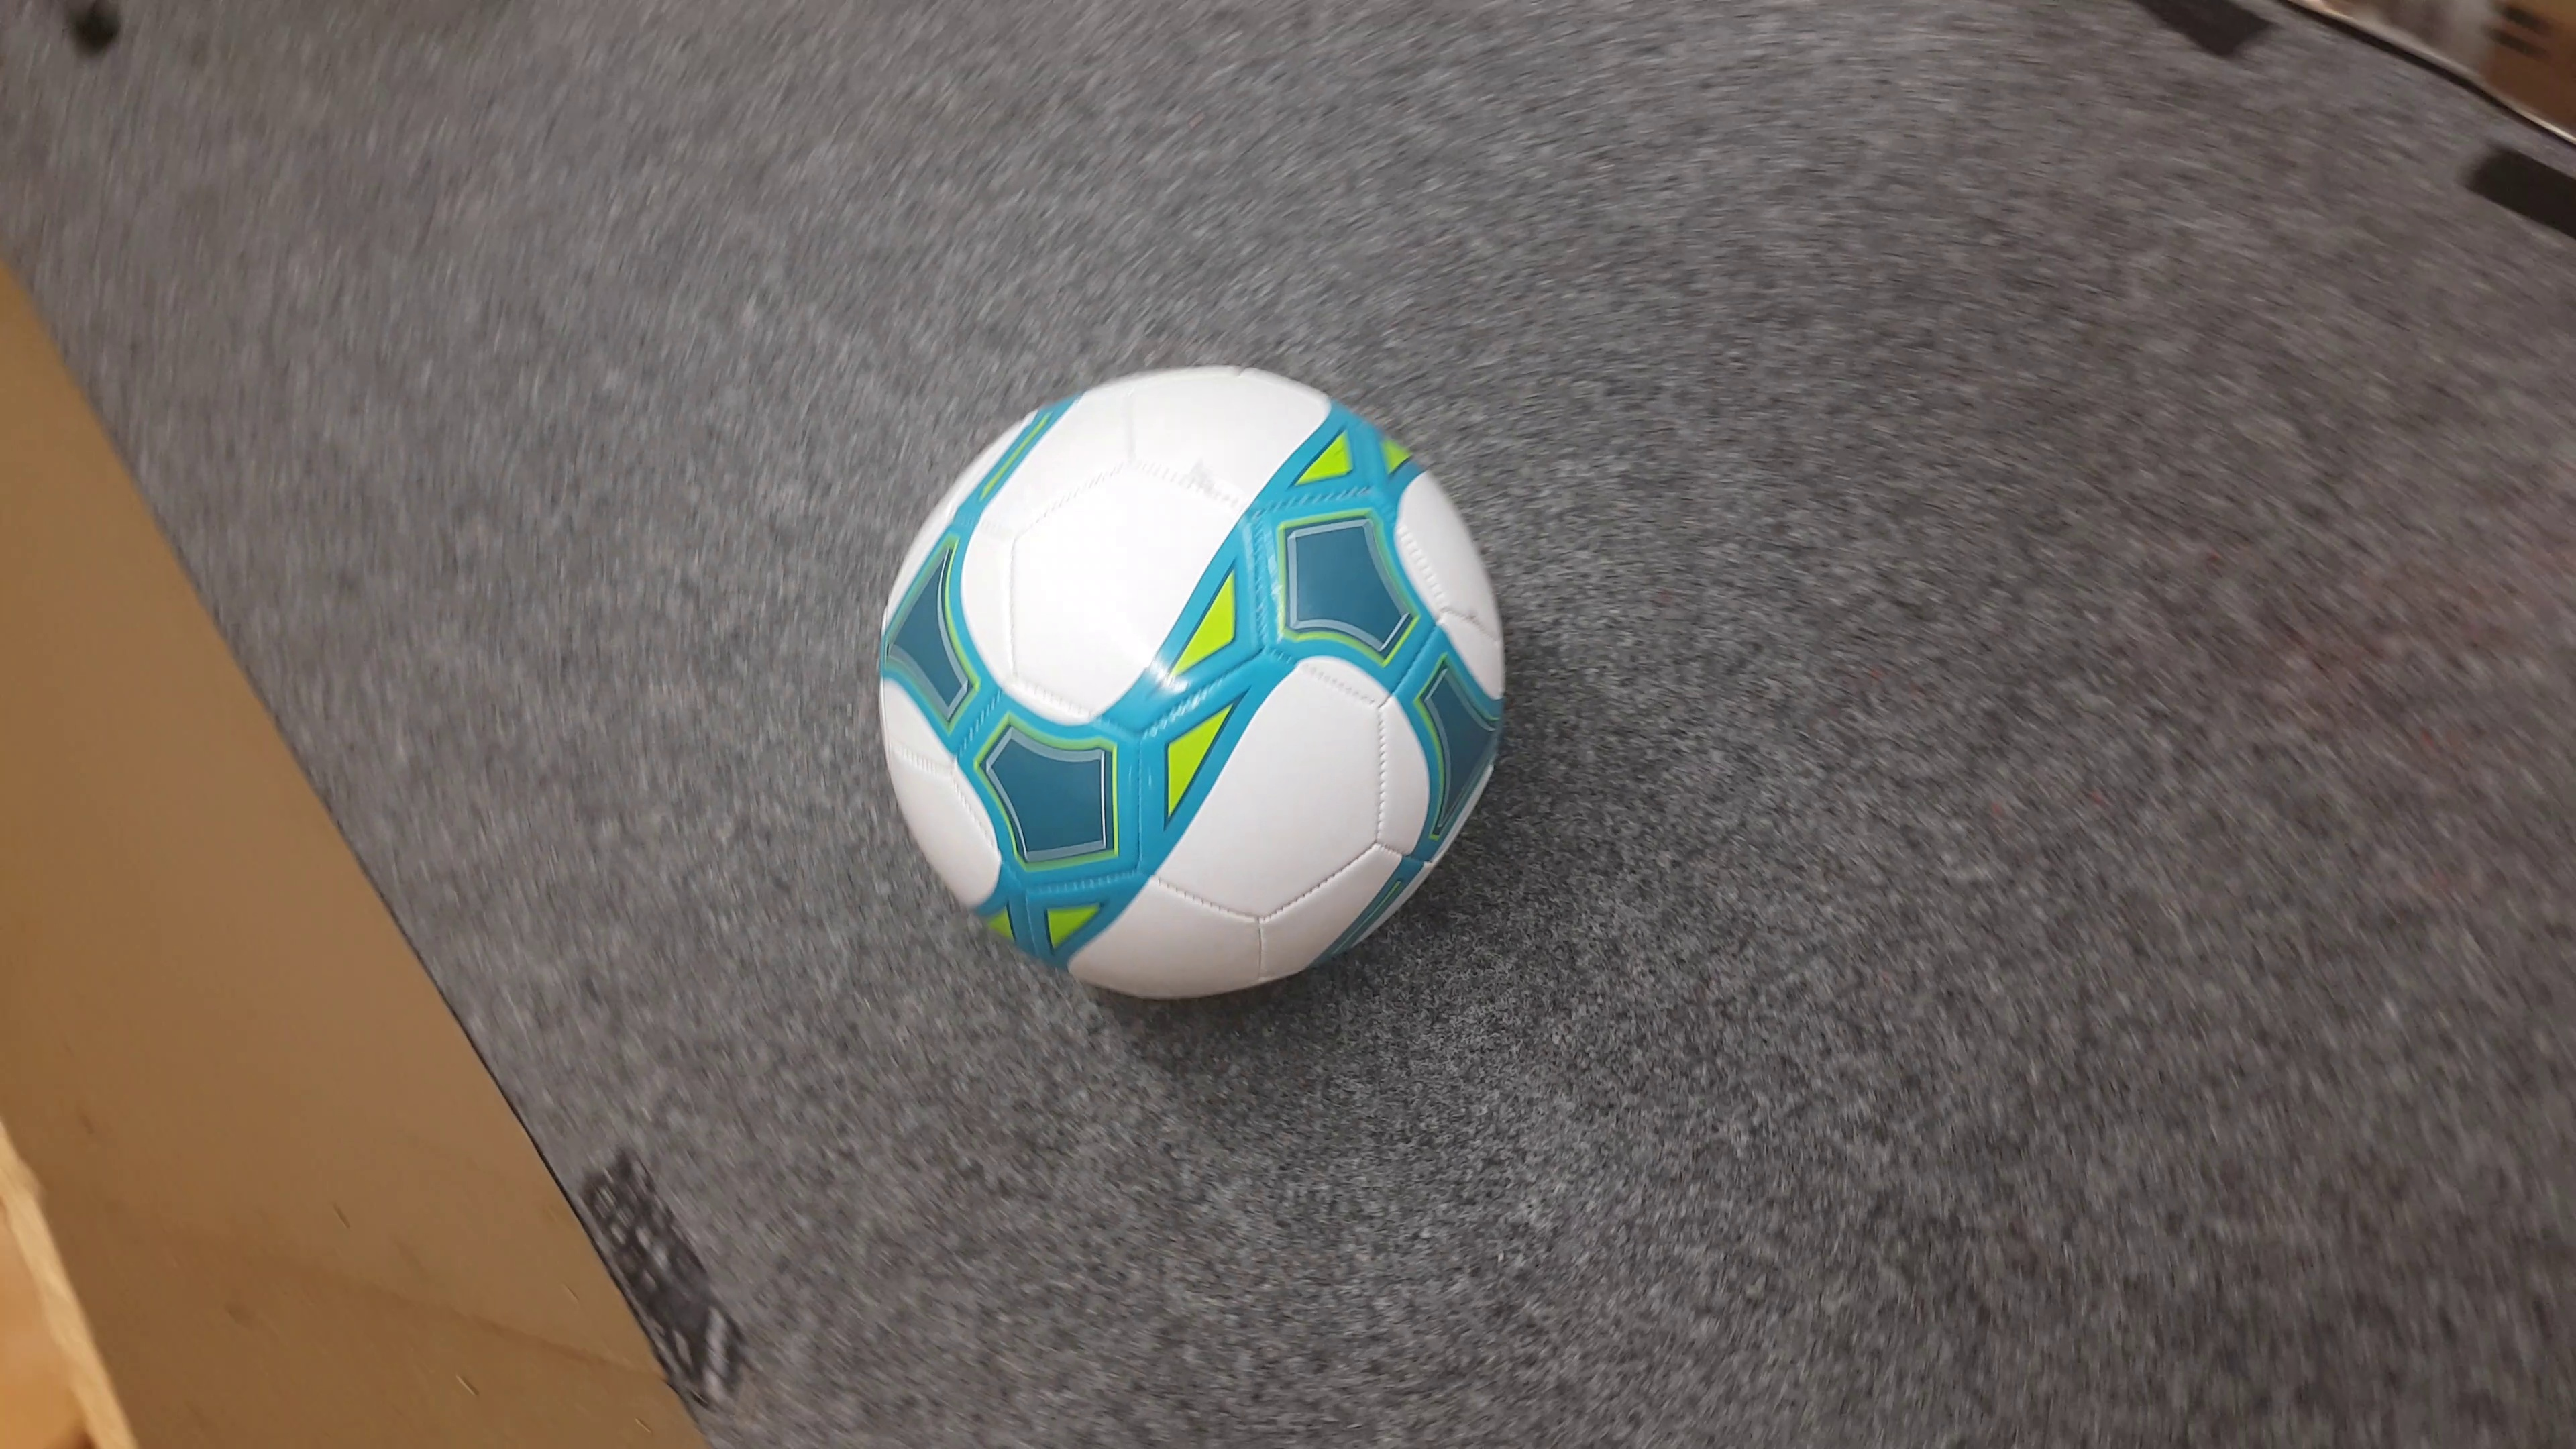kick: (872, 364, 1513, 996)
